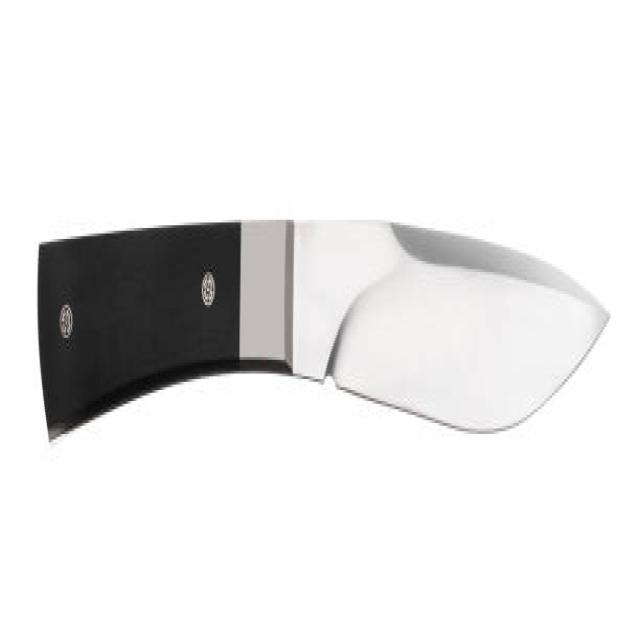knife: (27, 186, 613, 500)
